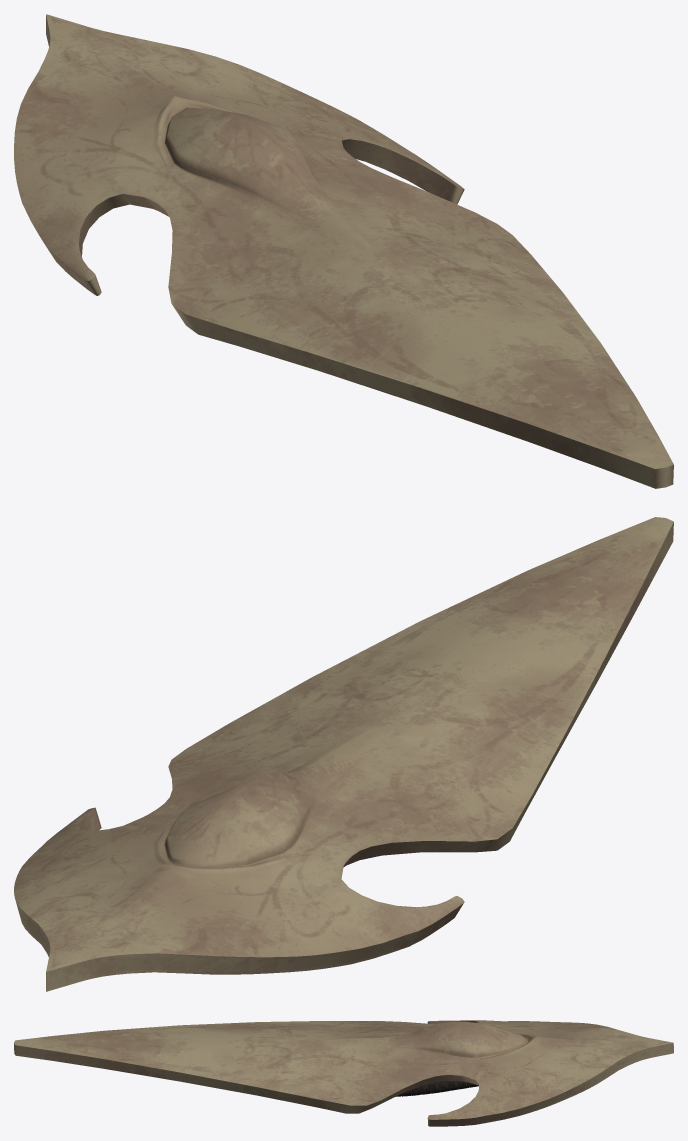
File: wm_elven_shield_a.fbx
The picture shows the model from 3 angles, top to bottom: view 1: azimuth 30°, elevation 25°; view 2: azimuth 150°, elevation 25°; view 3: azimuth 270°, elevation 25°; orthographic projection. The views are drawn at different scales.
Parts seen in each view (by area): view 1: wm_elven_shield_a; view 2: wm_elven_shield_a; view 3: wm_elven_shield_a.
Boxes of the visible parts, x1=… form: wm_elven_shield_a: x1=14, y1=14, x2=673, y2=488; wm_elven_shield_a: x1=14, y1=517, x2=673, y2=991; wm_elven_shield_a: x1=14, y1=1020, x2=673, y2=1126.
Bounding box in the file's own units: 0.5221 × 1.49 × 0.1884.
Materials: 1 (1 with a texture image).
